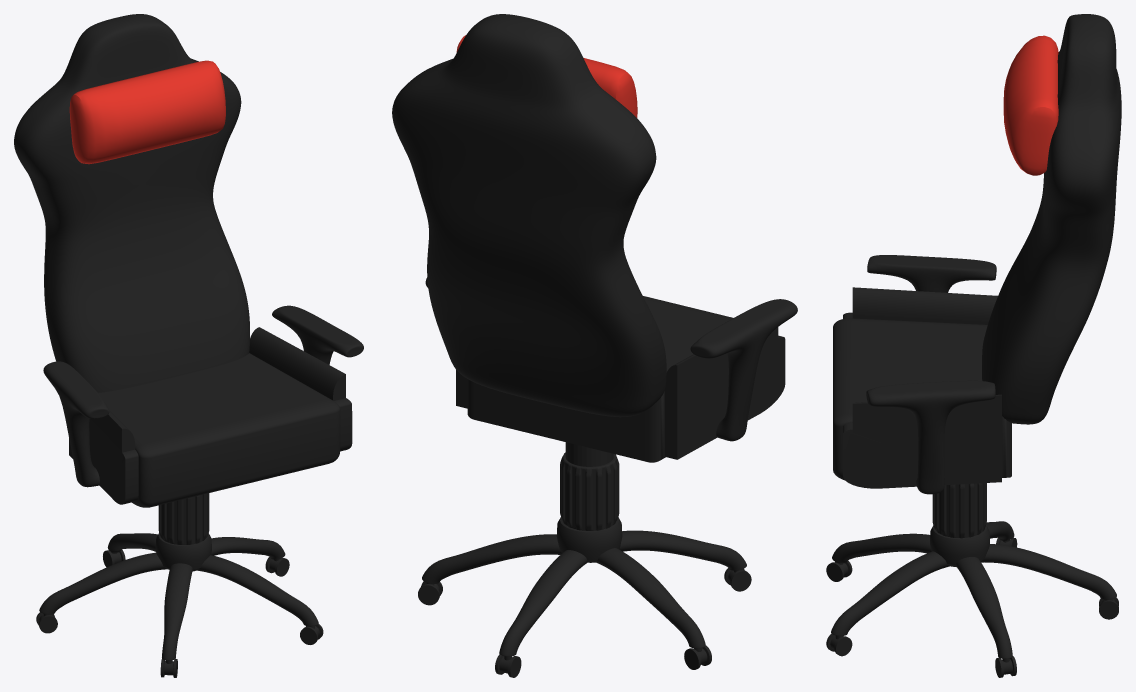
File: Gaming_Chair.fbx
3 views of the same model, side by side, from view 1: azimuth 30°, elevation 25°; view 2: azimuth 150°, elevation 25°; view 3: azimuth 270°, elevation 25° (orthographic). The views are drawn at different scales.
Visible parts, largest first — view 1: Cylinder.001; view 2: Cylinder.001; view 3: Cylinder.001.
Boxes of the visible parts, x1,y1,x2,y2 form: Cylinder.001: (14, 14, 363, 677); Cylinder.001: (392, 14, 797, 677); Cylinder.001: (826, 14, 1121, 677).
Bounding box in the file's own units: 384 × 729 × 330.
